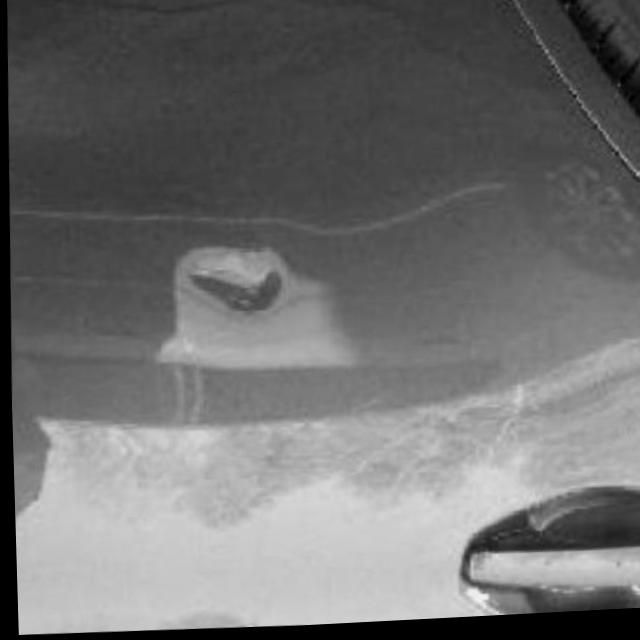Dent: (178, 236, 297, 314)
